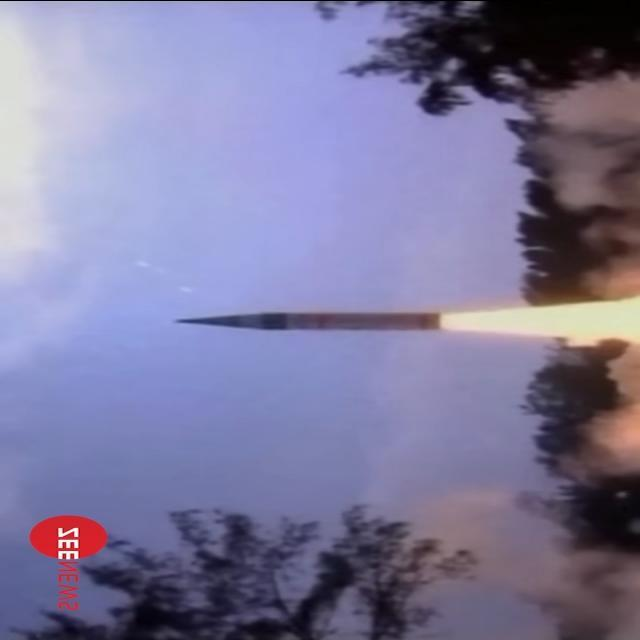missile: (153, 306, 450, 336)
